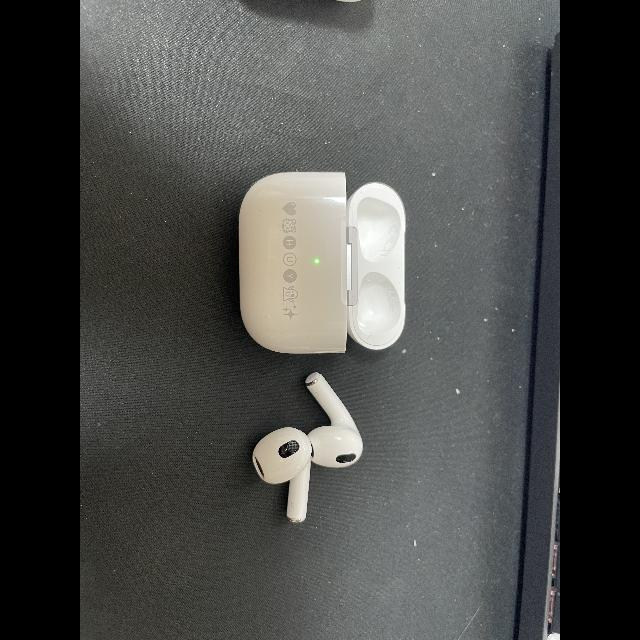airpod3: (224, 160, 412, 524)
